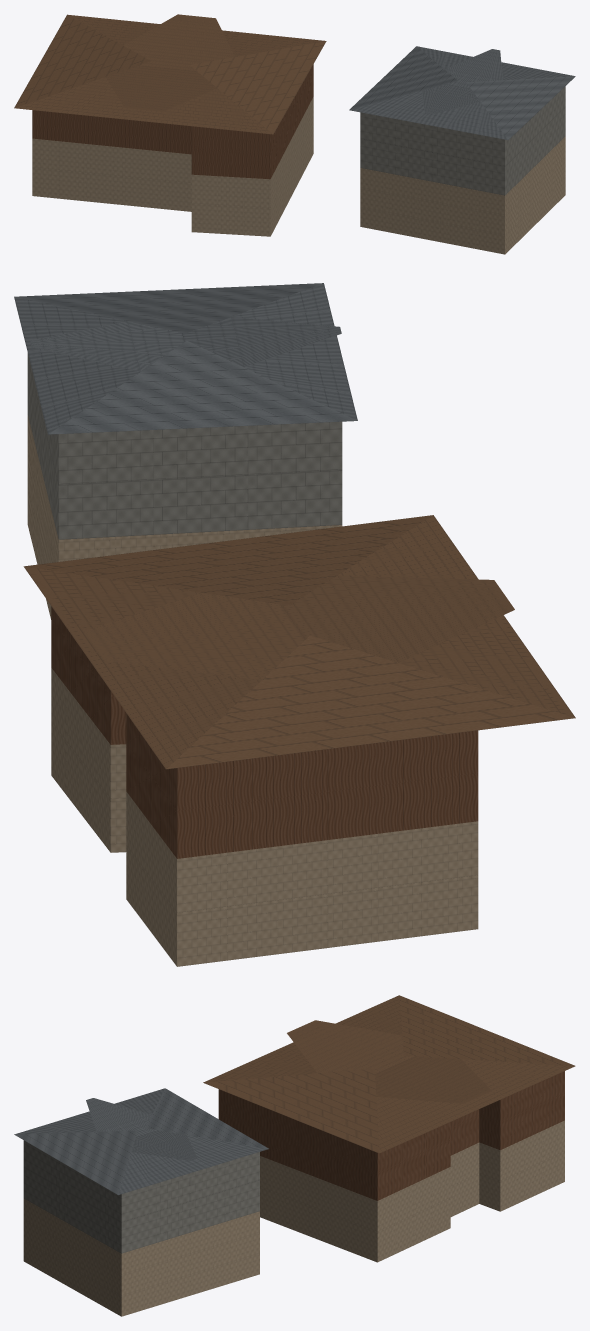
The model's file is bld_c43_34_256.gltf.
The picture shows the model from 3 angles, top to bottom: view 1: azimuth 30°, elevation 25°; view 2: azimuth 150°, elevation 25°; view 3: azimuth 270°, elevation 25°; orthographic projection. The views are drawn at different scales.
Parts seen in each view (by area): view 1: bld_c43_34_256; view 2: bld_c43_34_256; view 3: bld_c43_34_256.
Boxes of the visible parts, x1,y1,x2,y2 form: bld_c43_34_256: [14, 14, 575, 254]; bld_c43_34_256: [14, 283, 575, 966]; bld_c43_34_256: [14, 995, 575, 1316].
Bounding box in the file's own units: 38.99 × 12.4 × 41.2.
5 materials, 5 textured.
